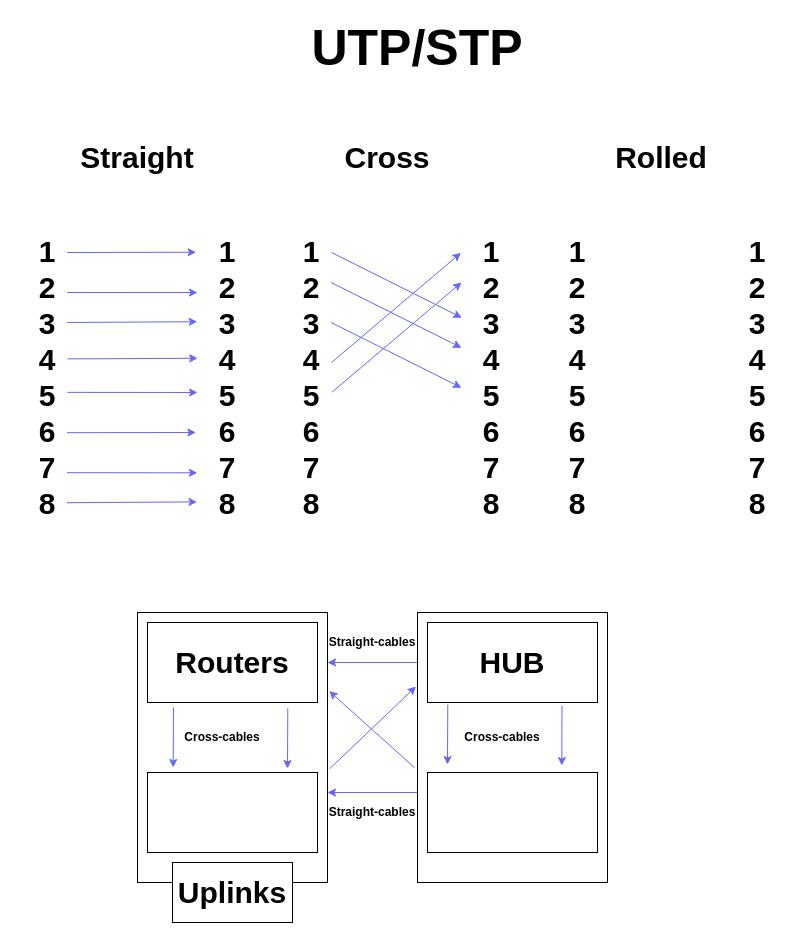
Some shapes in this 804 by 940 pixel diagram are drawn without their labels. Here are the shapes that lost their labels. From the top down, the centre of each, then its label:
the point at 232,812: Hosts
the point at 512,812: Switches
